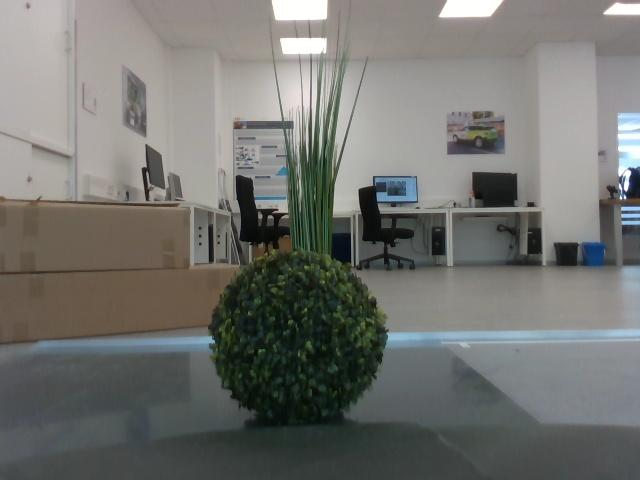potted plant: (211, 253, 390, 426), (268, 11, 371, 252)
